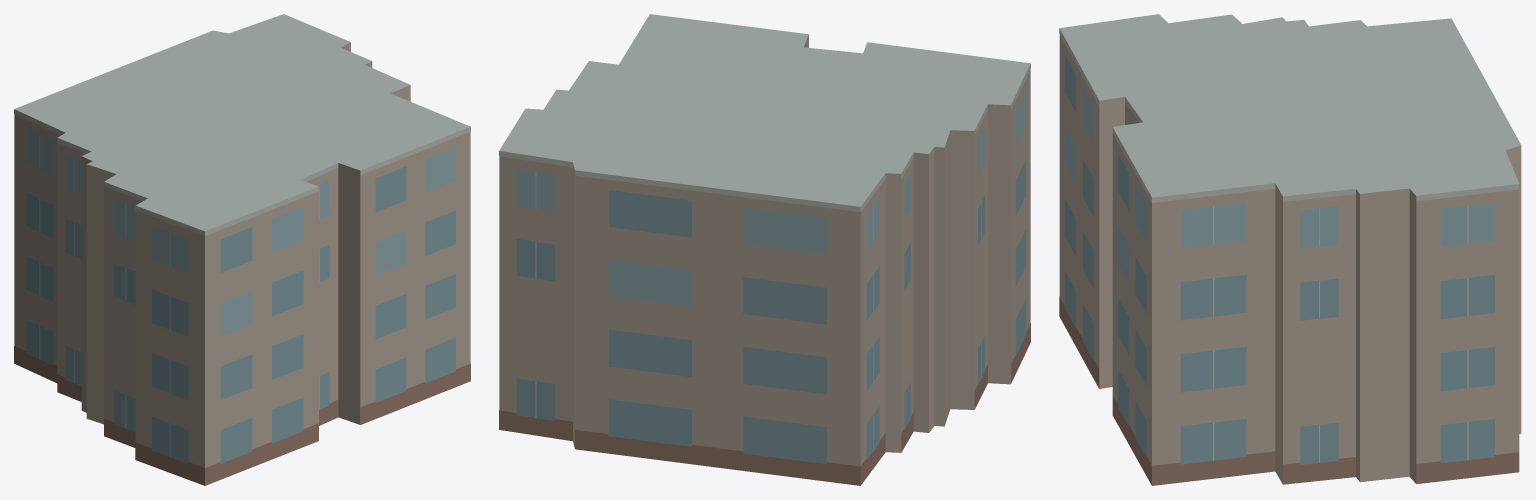
The model's file is survey-upis-32630571.glb.
The picture shows the model from 3 angles, left to right: view 1: azimuth 30°, elevation 25°; view 2: azimuth 150°, elevation 25°; view 3: azimuth 270°, elevation 25°; orthographic projection. The views are drawn at different scales.
Parts seen in each view (by area): view 1: survey-upis-32630571.tmp; view 2: survey-upis-32630571.tmp; view 3: survey-upis-32630571.tmp.
Boxes of the visible parts, <box> form: survey-upis-32630571.tmp: <box>14,14,470,485</box>; survey-upis-32630571.tmp: <box>499,14,1030,485</box>; survey-upis-32630571.tmp: <box>1059,14,1521,485</box>.
Bounding box in the file's own units: 17.5 × 12.8 × 18.6.
